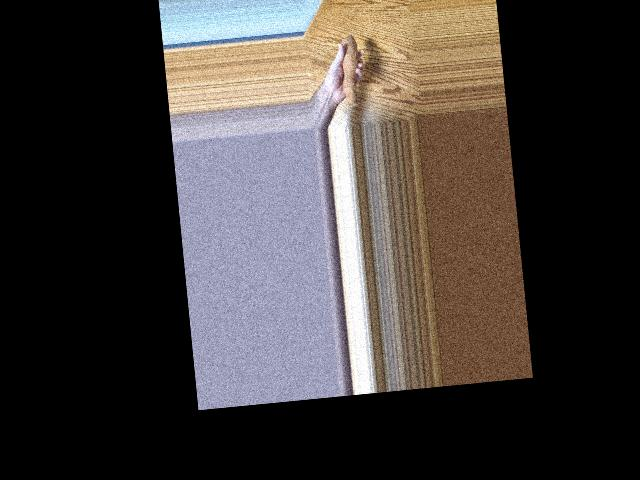sweet_potato: (329, 28, 365, 111)
